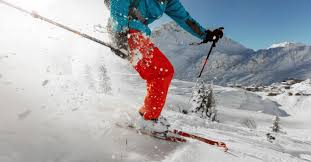skis: (114, 112, 233, 156)
